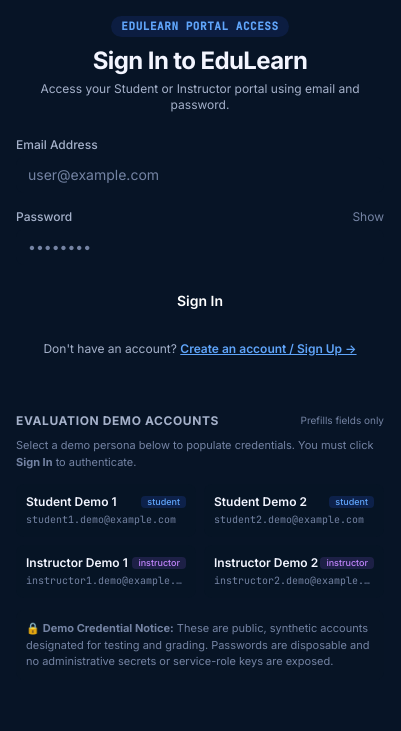
Test: LoginPage Component Tests › displays client validation error when email is missing
The image size is (401, 731).
Click the button "Sign In" at (200, 300), box top-left (16, 280), bottom-right (384, 320)
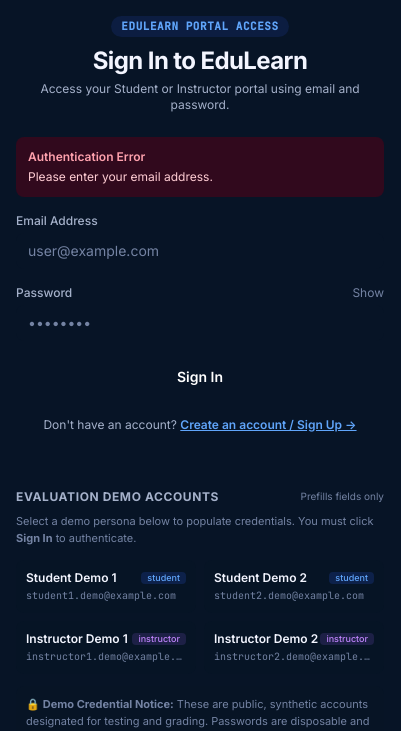
Check: the text "Please enter your email address." is shown, box top-left (28, 168), bottom-right (213, 184)
